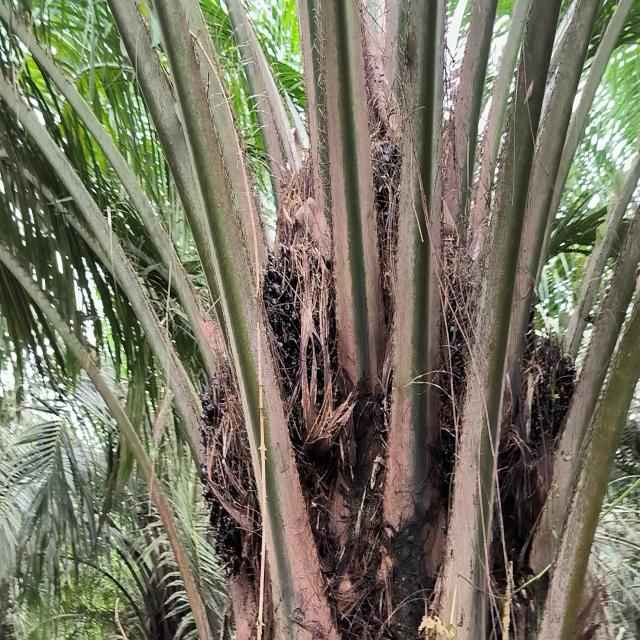palm-oil: (195, 354, 273, 586), (259, 239, 333, 455), (360, 135, 421, 329), (516, 326, 576, 508)
